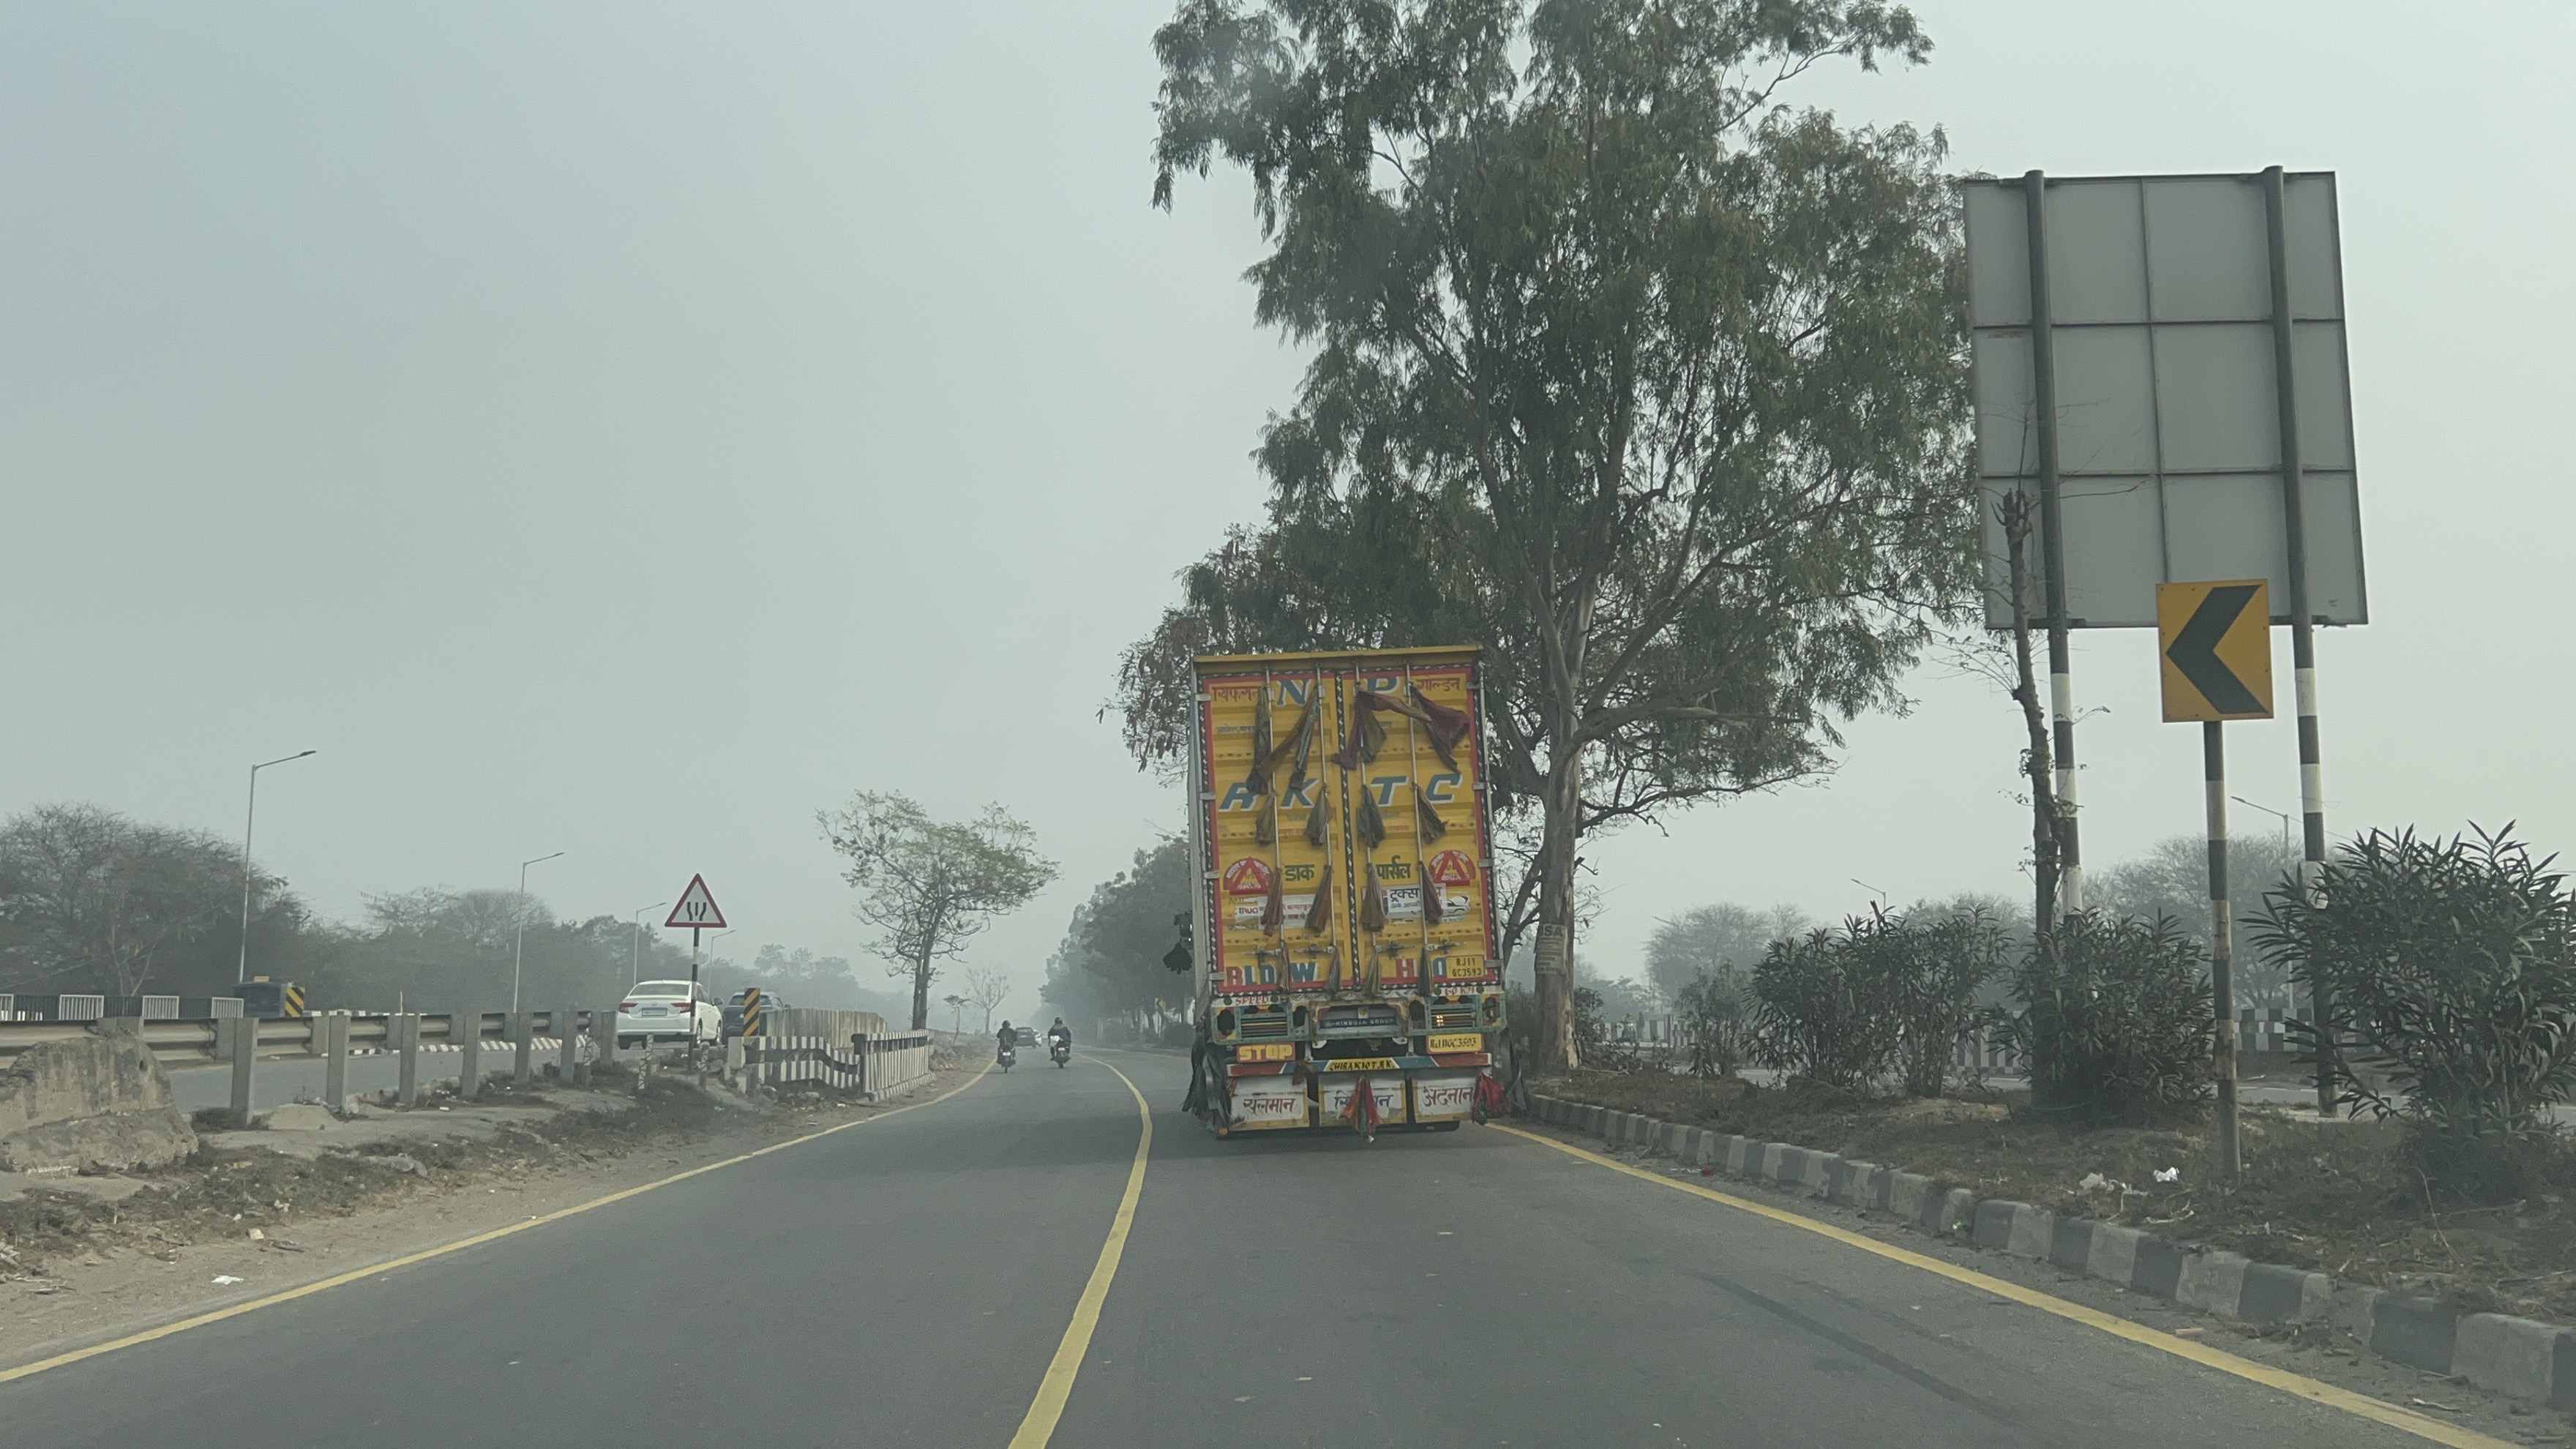General: (2134, 554, 2300, 743)
Warning: (651, 858, 741, 943)
